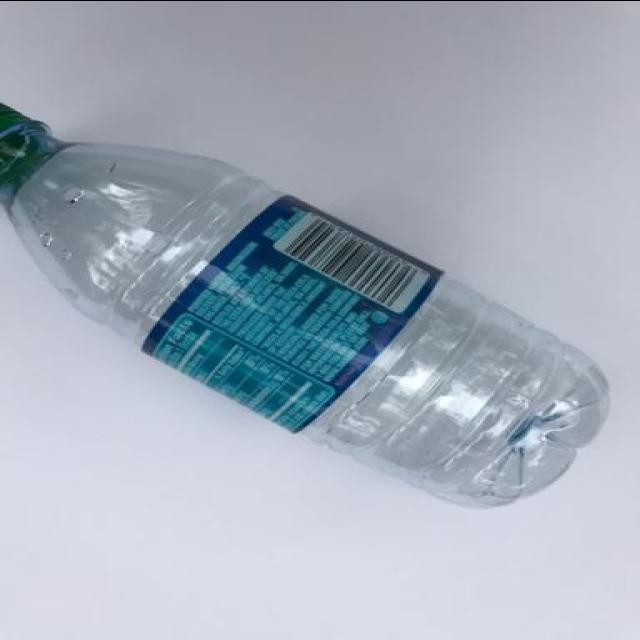PET: (0, 96, 620, 512)
